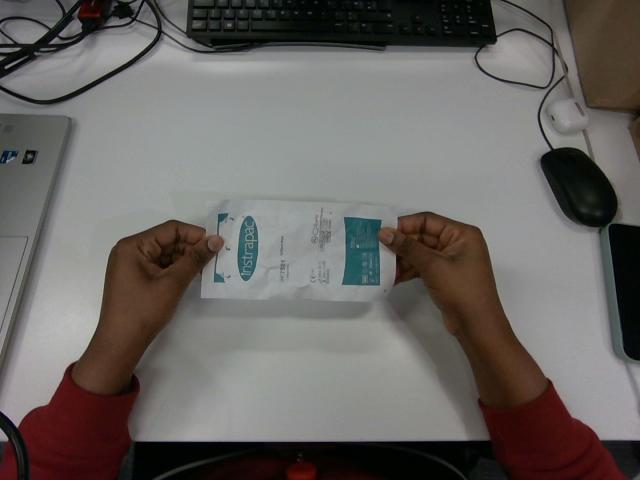gallipot: (201, 200, 396, 301)
